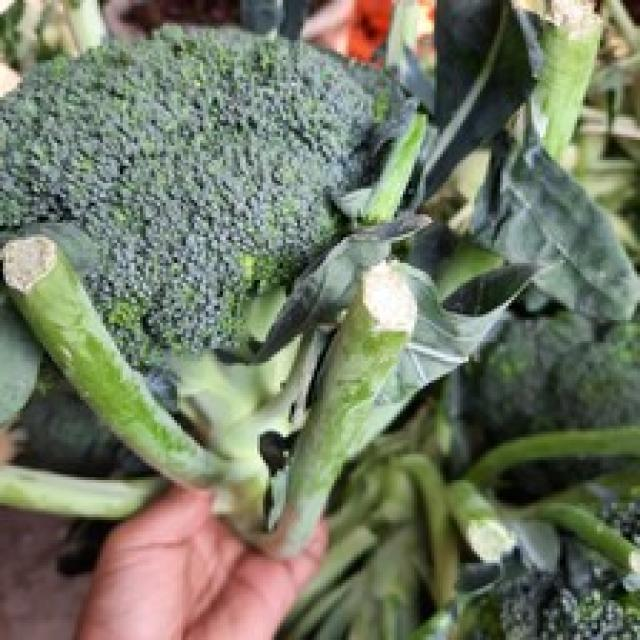Broccoli: (0, 30, 404, 371), (0, 30, 404, 369)
